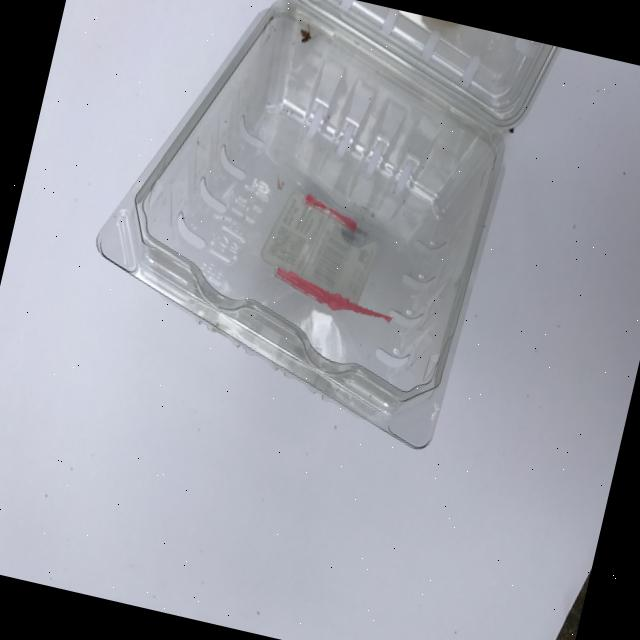plastic: (66, 0, 541, 456)
